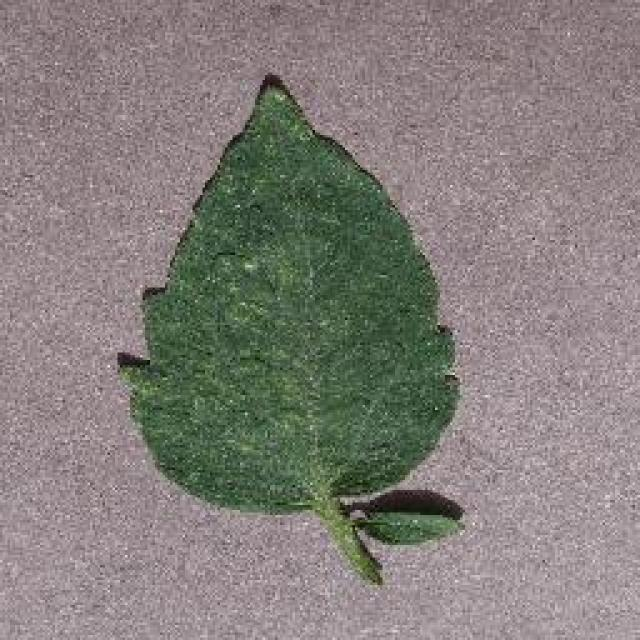Tomato___Spider_mites Two-spotted_spider_mite: (120, 78, 458, 582)
